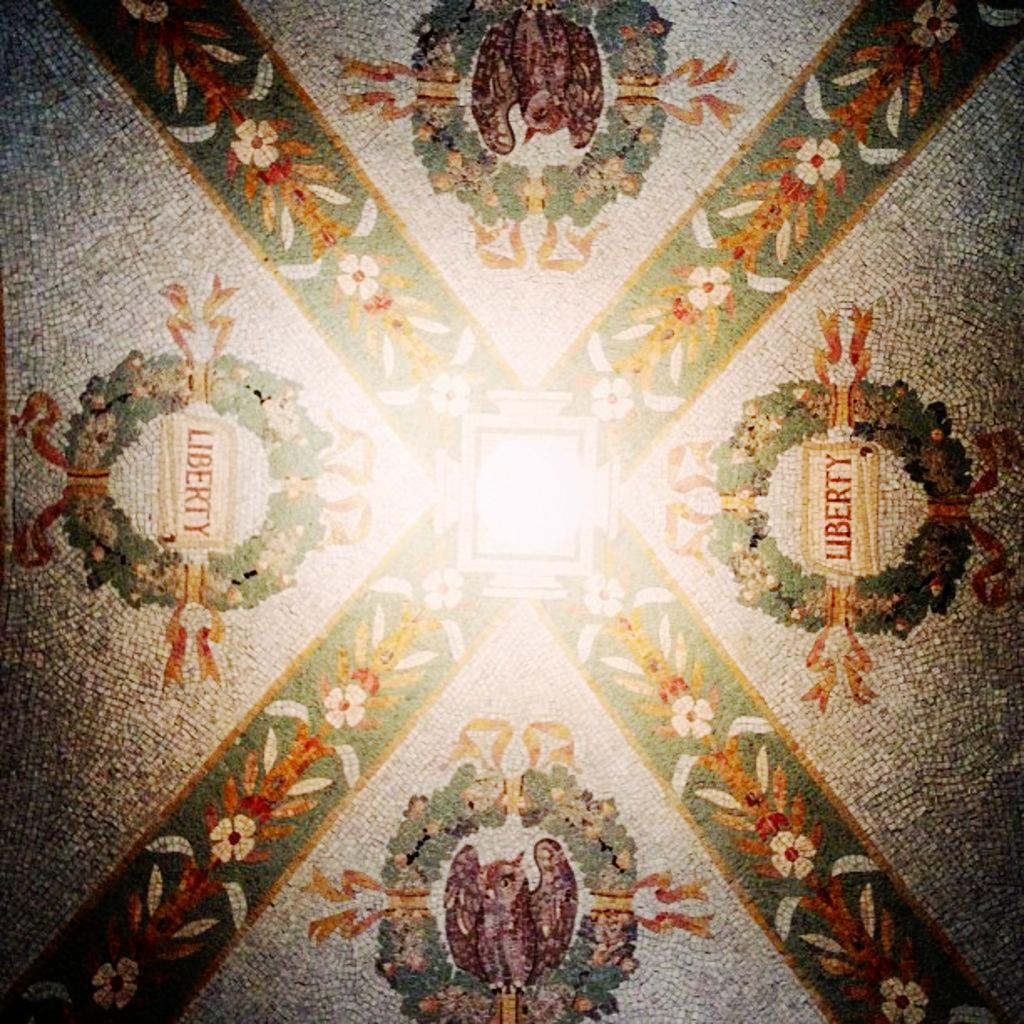Owl: (470, 5, 614, 157), (444, 835, 578, 994)
